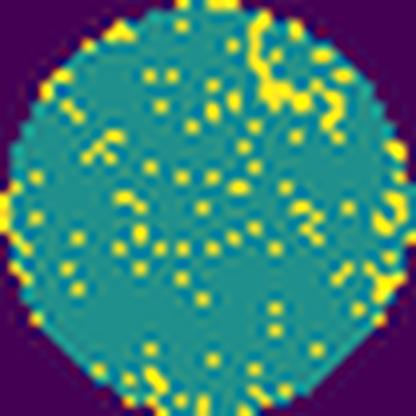Edge-Loc: (249, 12, 347, 148), (368, 189, 412, 238)
